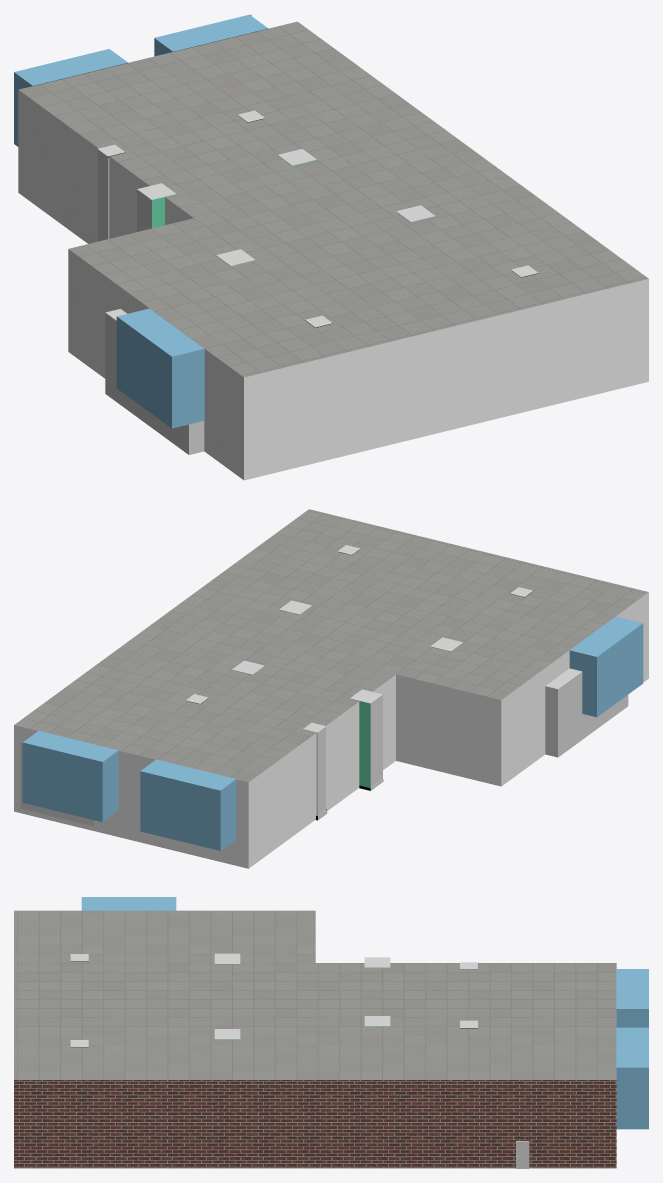
The model's file is SHNIPERUSAESTAAULAfbx 1.fbx.
The picture shows the model from 3 angles, top to bottom: view 1: azimuth 30°, elevation 25°; view 2: azimuth 150°, elevation 25°; view 3: azimuth 270°, elevation 25°; orthographic projection. The views are drawn at different scales.
Visible parts, largest first — view 1: Cube, Cube.012, Cube.011, Cube.010, Cube.009, Cube.003; view 2: Cube, Cube.010, Cube.011, Cube.012, Cube.009, Cube.003; view 3: Cube, Cube.010, Cube.011, Cube.012.
Part boxes in pixels (x1,y1,x2,y2): Cube: [18, 14, 648, 480]; Cube.012: [116, 308, 204, 428]; Cube.011: [14, 49, 127, 146]; Cube.010: [154, 14, 268, 56]; Cube.009: [137, 183, 176, 231]; Cube.003: [97, 144, 125, 241]; Cube: [14, 509, 648, 868]; Cube.010: [22, 731, 118, 822]; Cube.011: [140, 759, 236, 850]; Cube.012: [569, 616, 643, 717]; Cube.009: [349, 689, 383, 790]; Cube.003: [303, 722, 327, 820]; Cube: [14, 910, 616, 1168]; Cube.010: [616, 1027, 648, 1129]; Cube.011: [616, 969, 648, 1027]; Cube.012: [81, 897, 176, 910].
Bounding box in the file's own units: 2659 × 604 × 3890.
